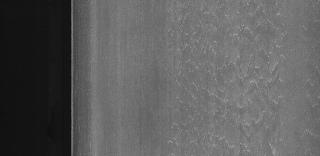silk spot: (165, 6, 288, 156)
